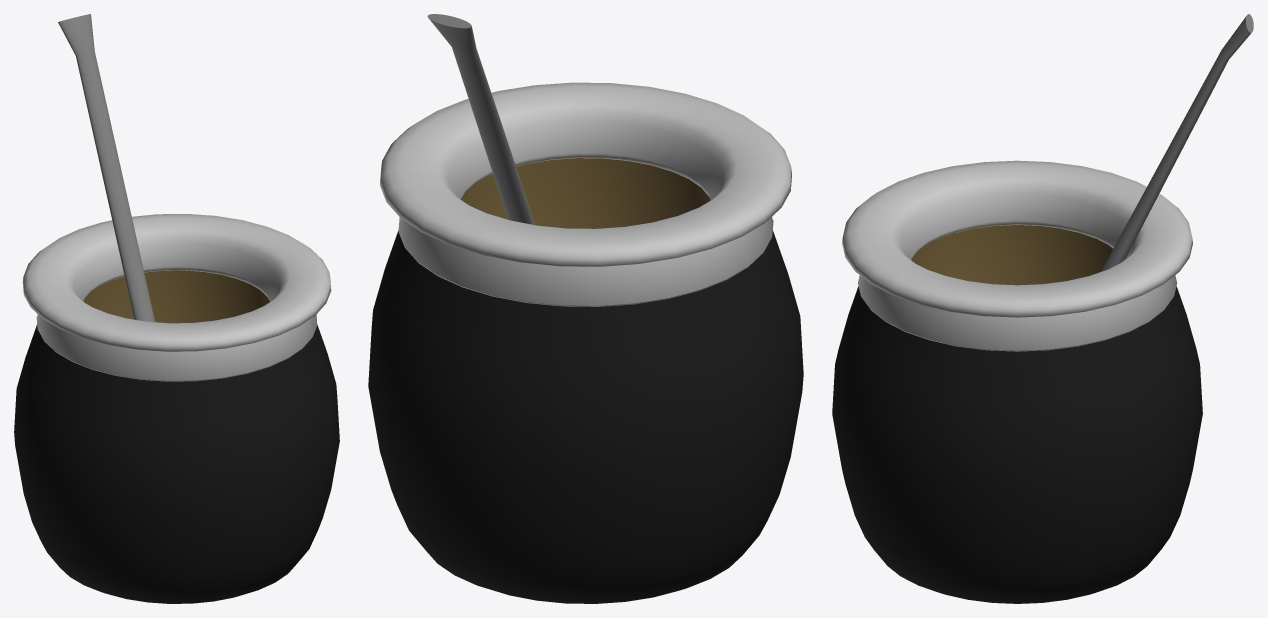
The model's file is Mate.fbx.
The picture shows the model from 3 angles, left to right: view 1: azimuth 30°, elevation 25°; view 2: azimuth 150°, elevation 25°; view 3: azimuth 270°, elevation 25°; orthographic projection. The views are drawn at different scales.
Parts seen in each view (by area): view 1: Mate, Bombilla; view 2: Mate, Bombilla; view 3: Mate, Bombilla.
Part boxes in pixels (x1,y1,x2,y2): Mate: (14,214,339,603); Bombilla: (58,14,155,322); Mate: (368,82,803,603); Bombilla: (427,14,535,225); Mate: (832,160,1202,603); Bombilla: (1101,14,1253,271).
Bounding box in the file's own units: 56.32 × 90.59 × 64.05.
2 materials, 2 textured.
